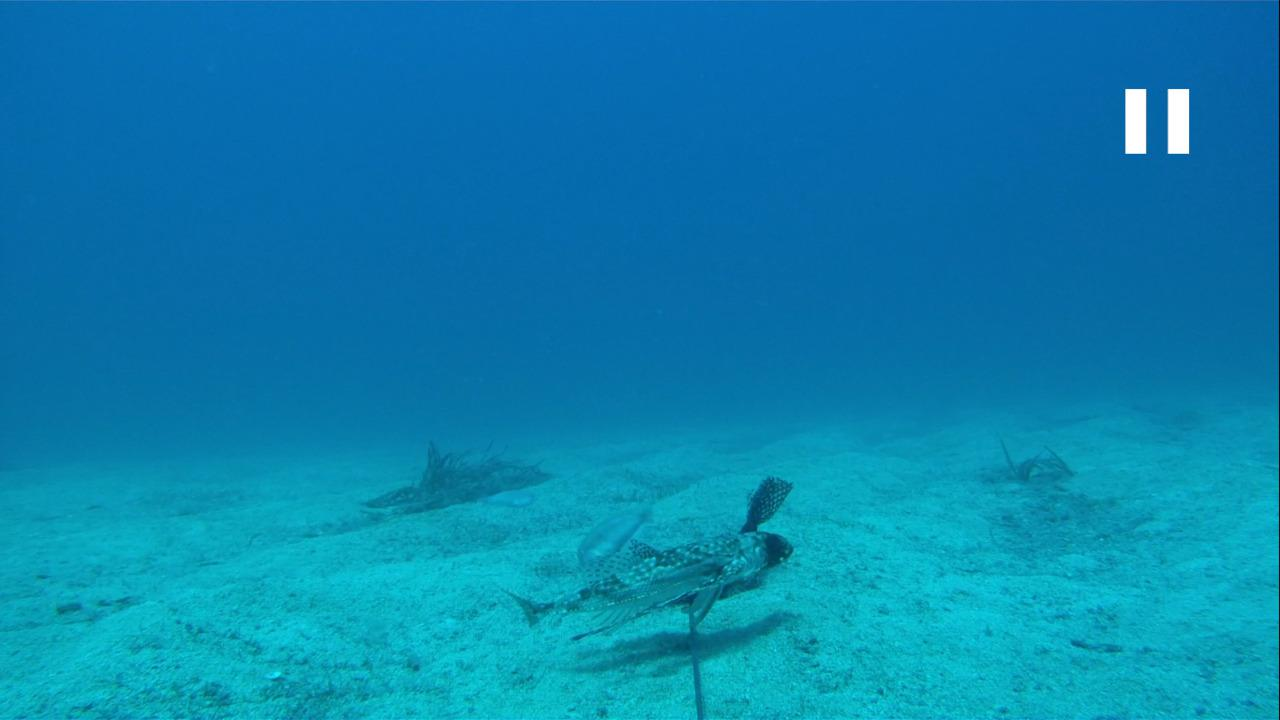dactylopterus: (506, 524, 792, 646)
raor: (577, 497, 658, 567)
